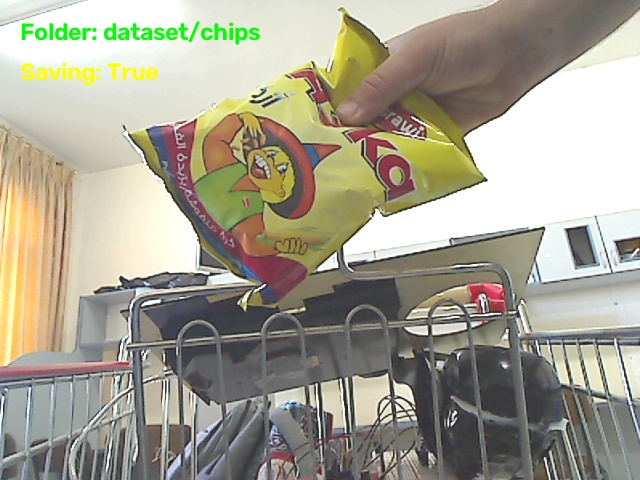chips: (127, 11, 483, 306)
